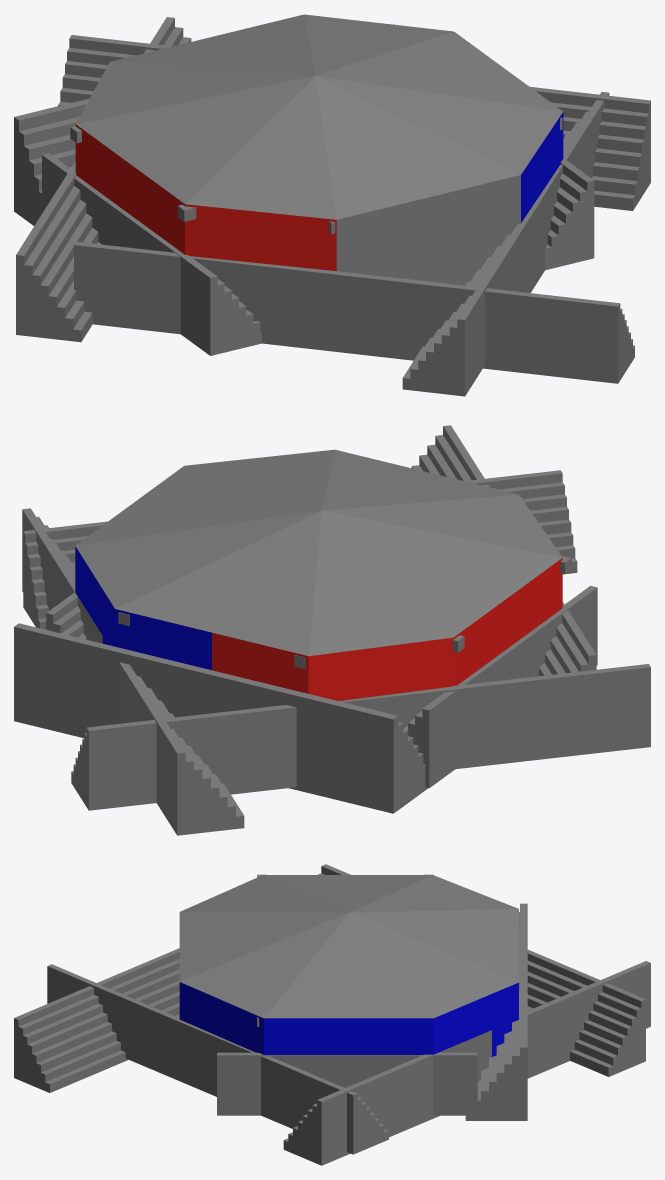
Rendered from SwordBoxingArena.fbx.
The picture shows the model from 3 angles, top to bottom: view 1: azimuth 30°, elevation 25°; view 2: azimuth 150°, elevation 25°; view 3: azimuth 270°, elevation 25°; orthographic projection. The views are drawn at different scales.
Visible parts, largest first — view 1: Sword Boxing Arena; view 2: Sword Boxing Arena; view 3: Sword Boxing Arena.
Part boxes in pixels (x1,y1,x2,y2): Sword Boxing Arena: (14,14,650,396); Sword Boxing Arena: (14,425,650,835); Sword Boxing Arena: (14,864,650,1165).
Bounding box in the file's own units: 6618 × 1740 × 7438.
